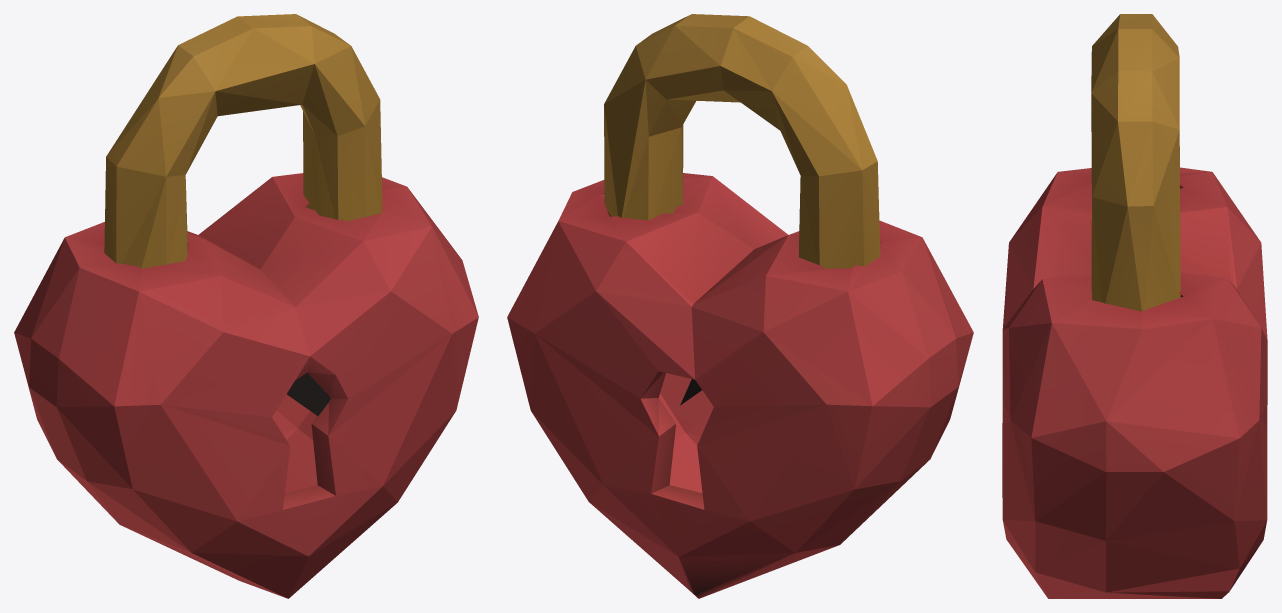
File: lock_08_lod1.glb
3 views of the same model, side by side, from view 1: azimuth 30°, elevation 25°; view 2: azimuth 150°, elevation 25°; view 3: azimuth 270°, elevation 25° (orthographic). The views are drawn at different scales.
Visible parts, largest first — view 1: geometry_0; view 2: geometry_0; view 3: geometry_0.
Boxes of the visible parts, x1,y1,x2,y2 form: geometry_0: [14, 14, 478, 598]; geometry_0: [507, 14, 973, 598]; geometry_0: [1002, 14, 1267, 598].
Bounding box in the file's own units: 0.7368 × 0.9429 × 0.3979.
